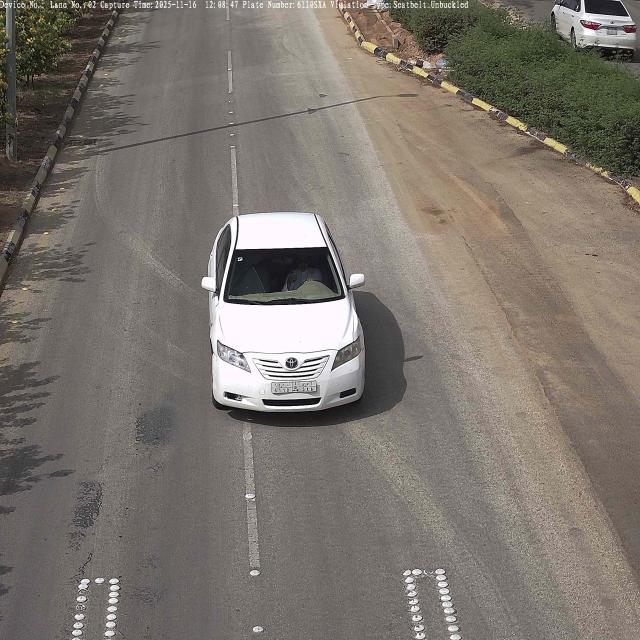person_without_seatbelt: (288, 251, 323, 293)
